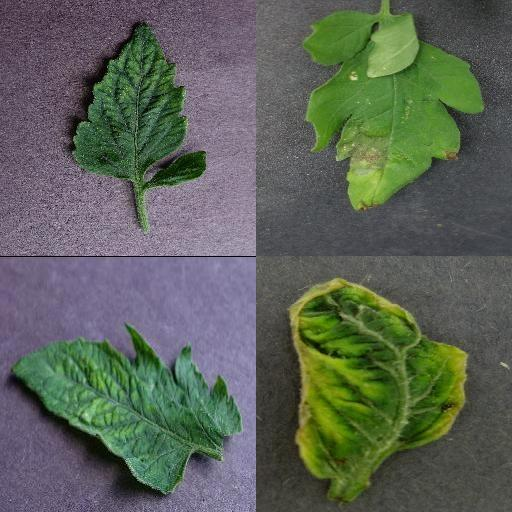Late Blight: (304, 11, 484, 209)
Mosaic Virus: (10, 321, 244, 495), (72, 18, 186, 182), (147, 148, 209, 186)
Yellow Leaf Curl Virus: (289, 278, 469, 478)
